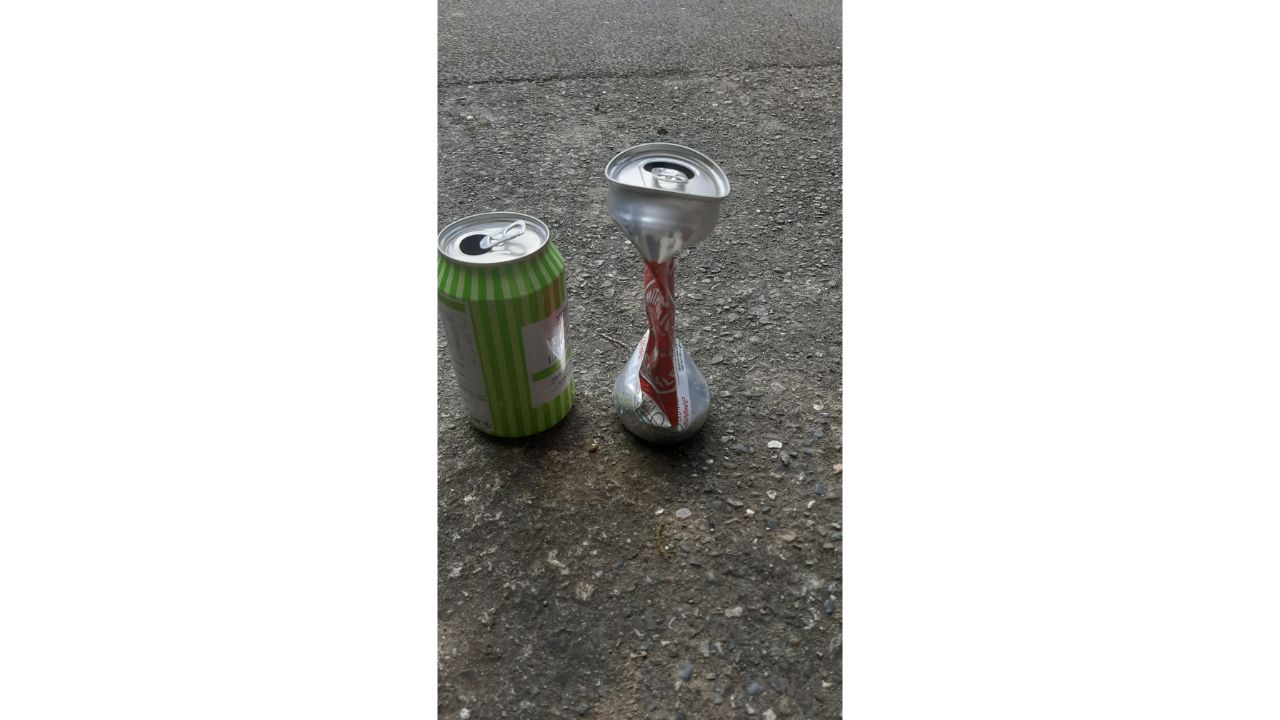Can: (596, 133, 738, 461), (435, 202, 583, 446)
